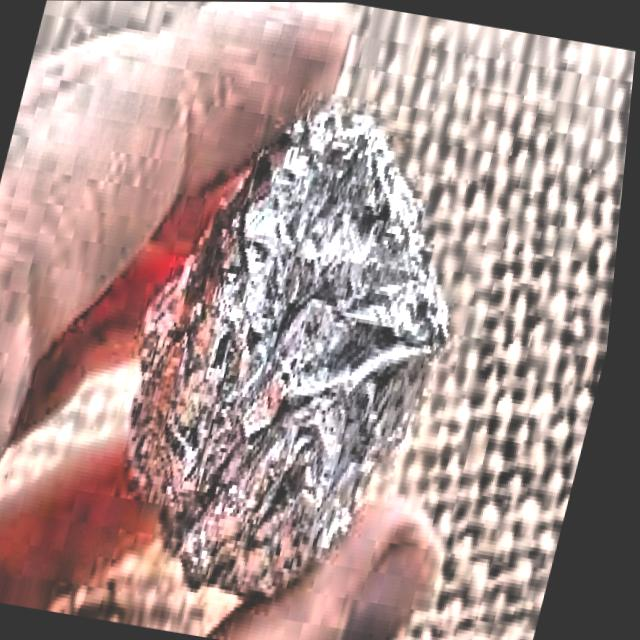Foil: (60, 57, 522, 640)
